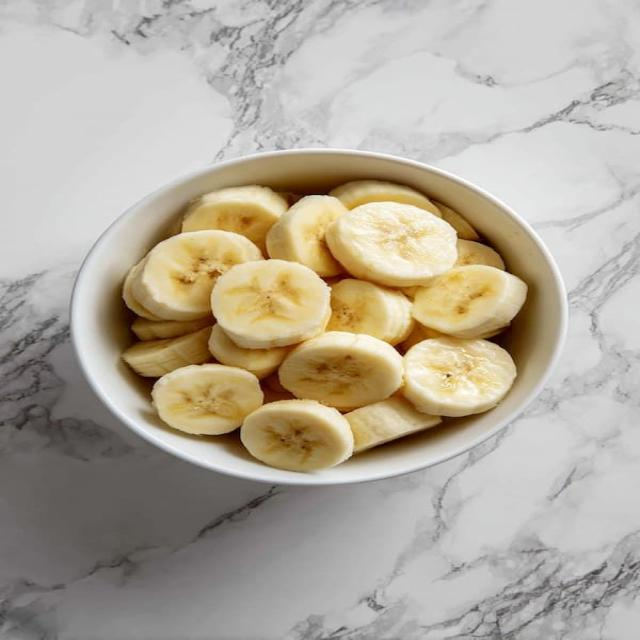banana slice: (133, 230, 262, 319), (326, 202, 456, 286), (212, 260, 330, 348), (279, 332, 403, 410), (404, 338, 516, 416), (412, 265, 526, 338), (240, 400, 353, 471), (152, 365, 263, 434), (183, 185, 289, 249), (266, 195, 347, 276), (327, 279, 414, 344), (345, 397, 441, 452), (122, 328, 212, 377), (208, 325, 289, 378), (330, 180, 441, 216), (122, 259, 161, 320), (132, 317, 213, 340), (436, 202, 479, 240), (456, 239, 504, 270), (400, 323, 451, 351), (400, 323, 446, 351), (262, 384, 295, 403), (263, 372, 290, 393), (324, 273, 348, 286), (400, 286, 419, 300)
